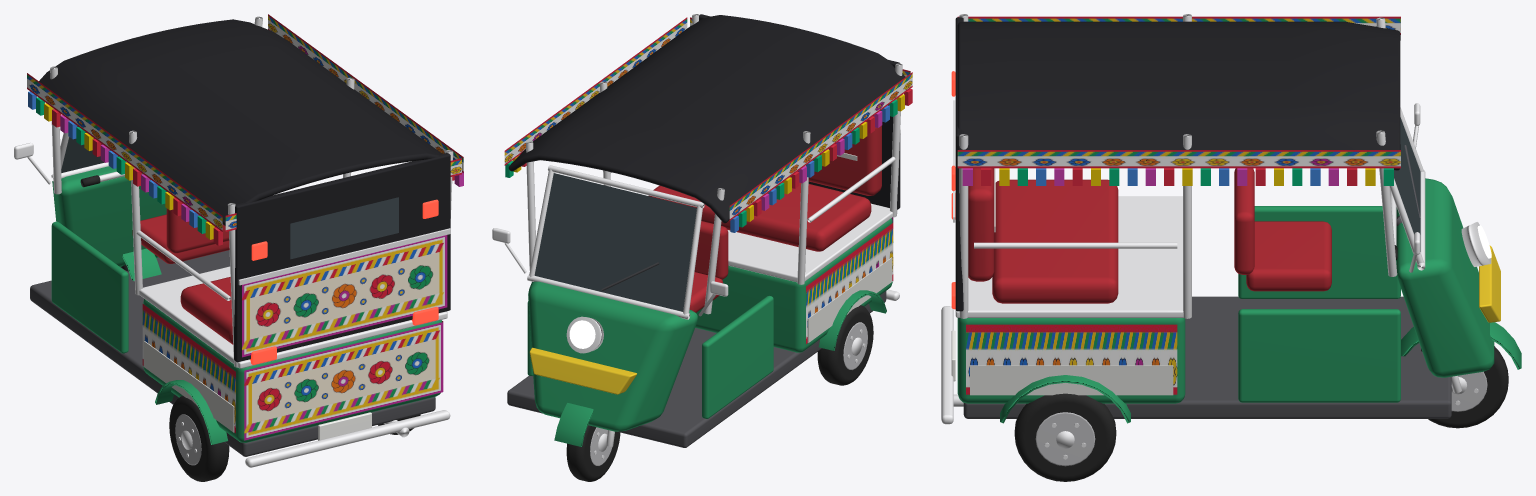
Rendered from rickshaw.glb.
3 renders of one model, left to right at view 1: azimuth 30°, elevation 25°; view 2: azimuth 150°, elevation 25°; view 3: azimuth 270°, elevation 25°, orthographic. The views are drawn at different scales.
Parts seen in each view (by area): view 1: RickshawBody, Wheel_RL; view 2: RickshawBody, Wheel_RL, Wheel_F; view 3: RickshawBody, Wheel_RR, Wheel_F.
Boxes of the visible parts, left/top/right/bottom form: RickshawBody: left=14, top=14, right=463, bottom=467; Wheel_RL: left=169, top=396, right=229, bottom=481; RickshawBody: left=492, top=14, right=912, bottom=447; Wheel_RL: left=817, top=305, right=873, bottom=385; Wheel_F: left=566, top=425, right=620, bottom=481; RickshawBody: left=941, top=14, right=1521, bottom=424; Wheel_RR: left=1014, top=393, right=1116, bottom=481; Wheel_F: left=1421, top=346, right=1508, bottom=428.
Size of the model in its own units: 1.62 by 1.97 by 2.85.
20 materials, 2 textured.
